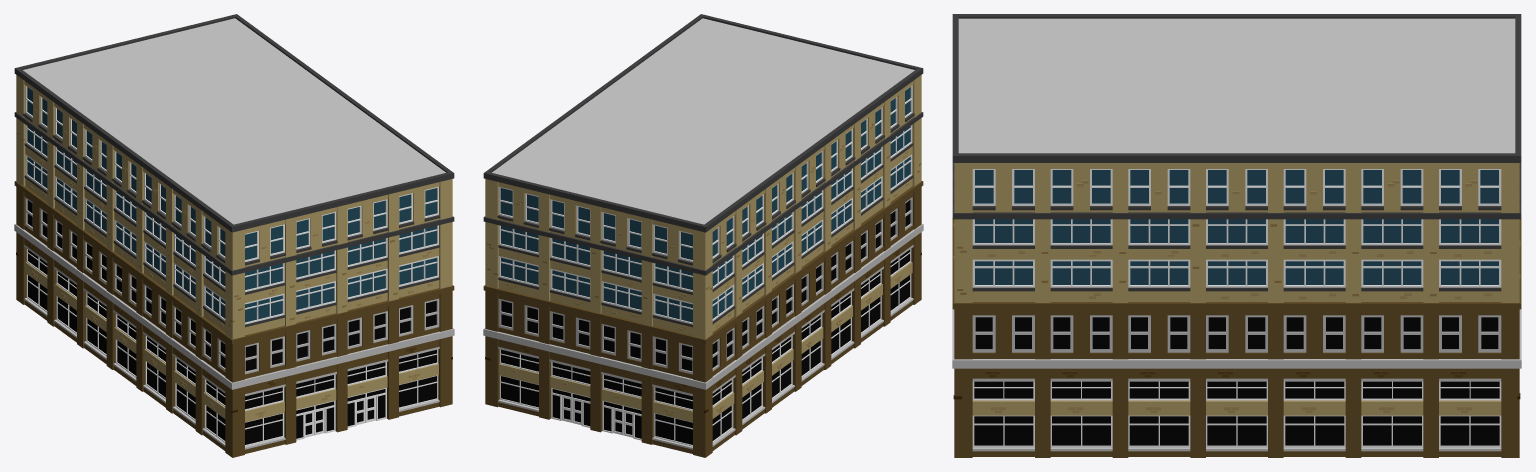
The picture shows the model from 3 angles, left to right: view 1: azimuth 30°, elevation 25°; view 2: azimuth 150°, elevation 25°; view 3: azimuth 270°, elevation 25°; orthographic projection. The views are drawn at different scales.
Parts seen in each view (by area): view 1: Building; view 2: Building; view 3: Building.
Part boxes in pixels (x1,y1,x2,y2): Building: (14, 14, 454, 457); Building: (483, 14, 923, 457); Building: (952, 14, 1521, 457).
Size of what is drawn, in the model's own units: 21.64 by 21.5 by 36.64.
